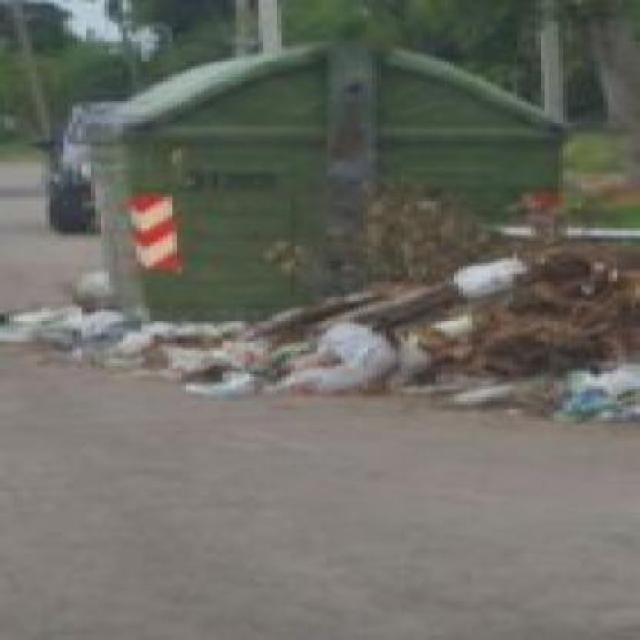garbage: (277, 205, 626, 428), (28, 292, 269, 408)
